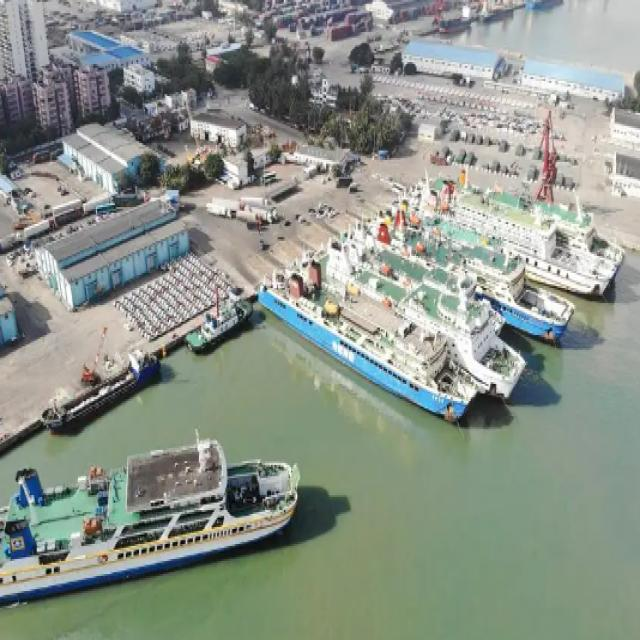fishing boat: (0, 395, 314, 595), (246, 284, 498, 414)
